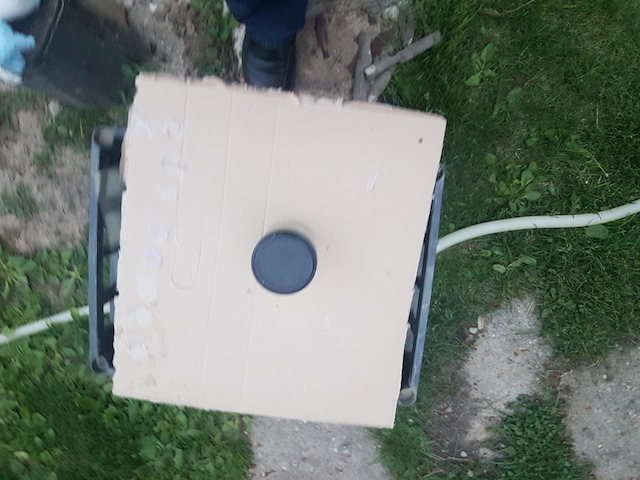recipient: (249, 231, 317, 296)
